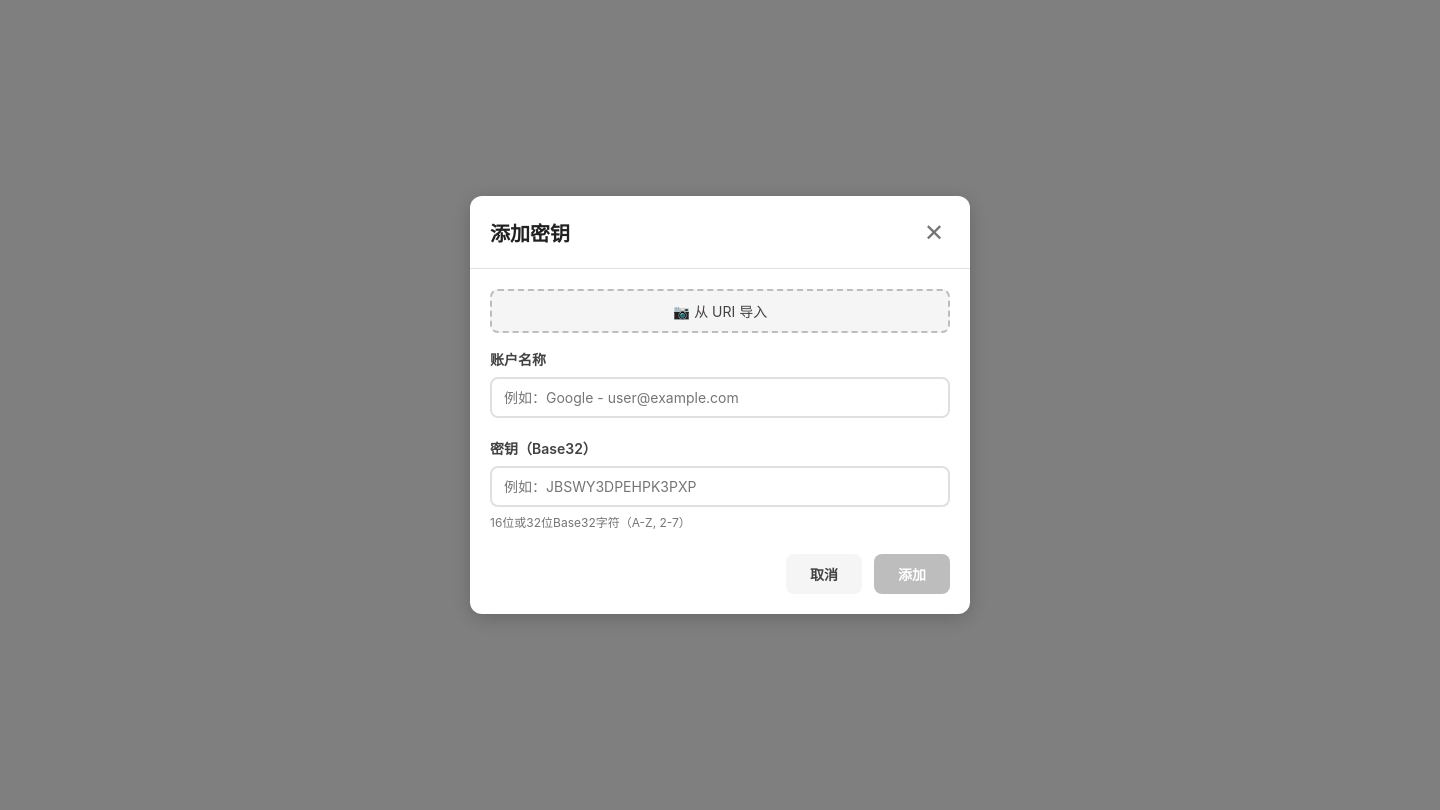
it: TokenForm › Form validation › should validate Base32 secret format
Type "Test" into the field with id "name" at (720, 398), box x1=490 y1=377 x2=950 y2=418
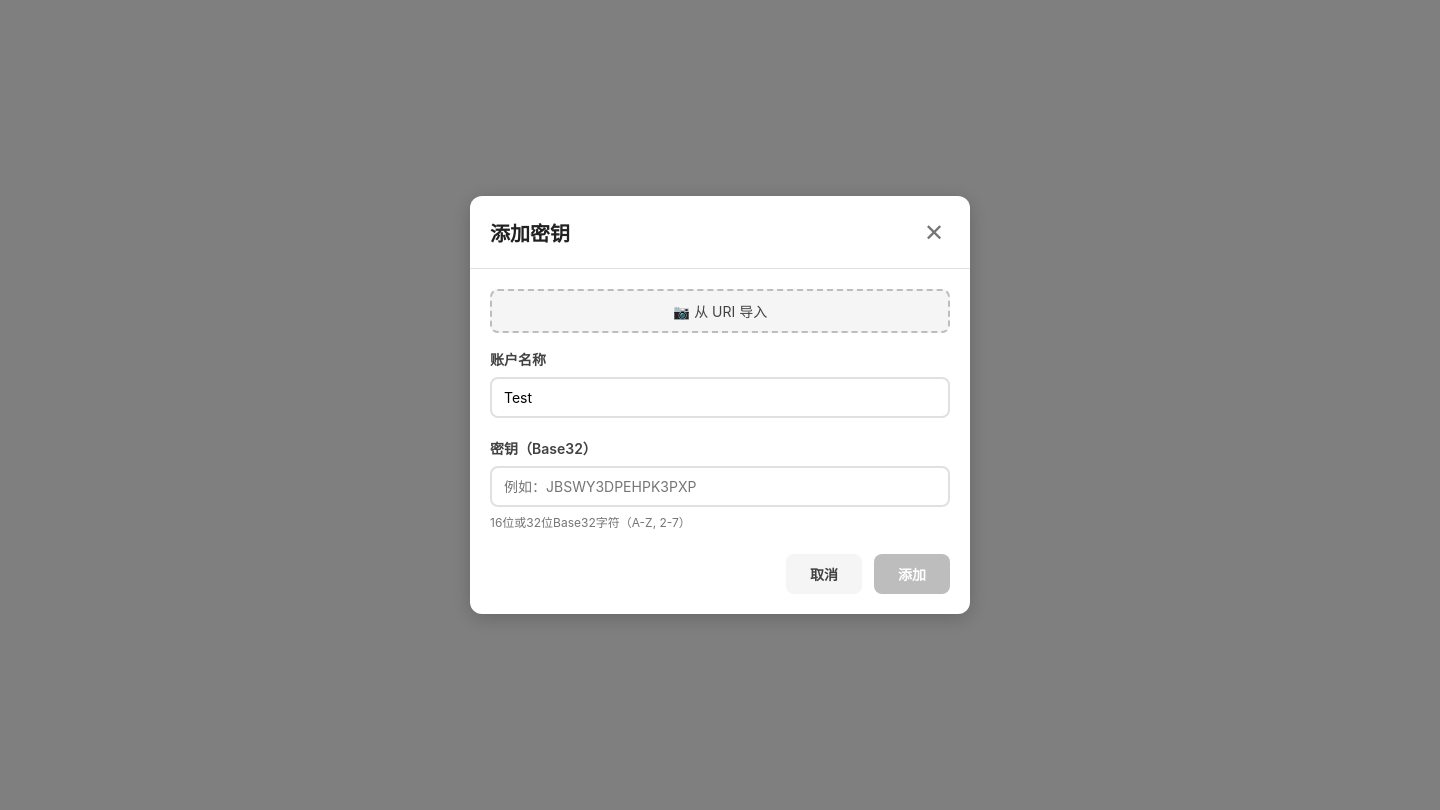
Type "INVALID!@#" into the field with id "secret" at (720, 486), box x1=490 y1=466 x2=950 y2=507
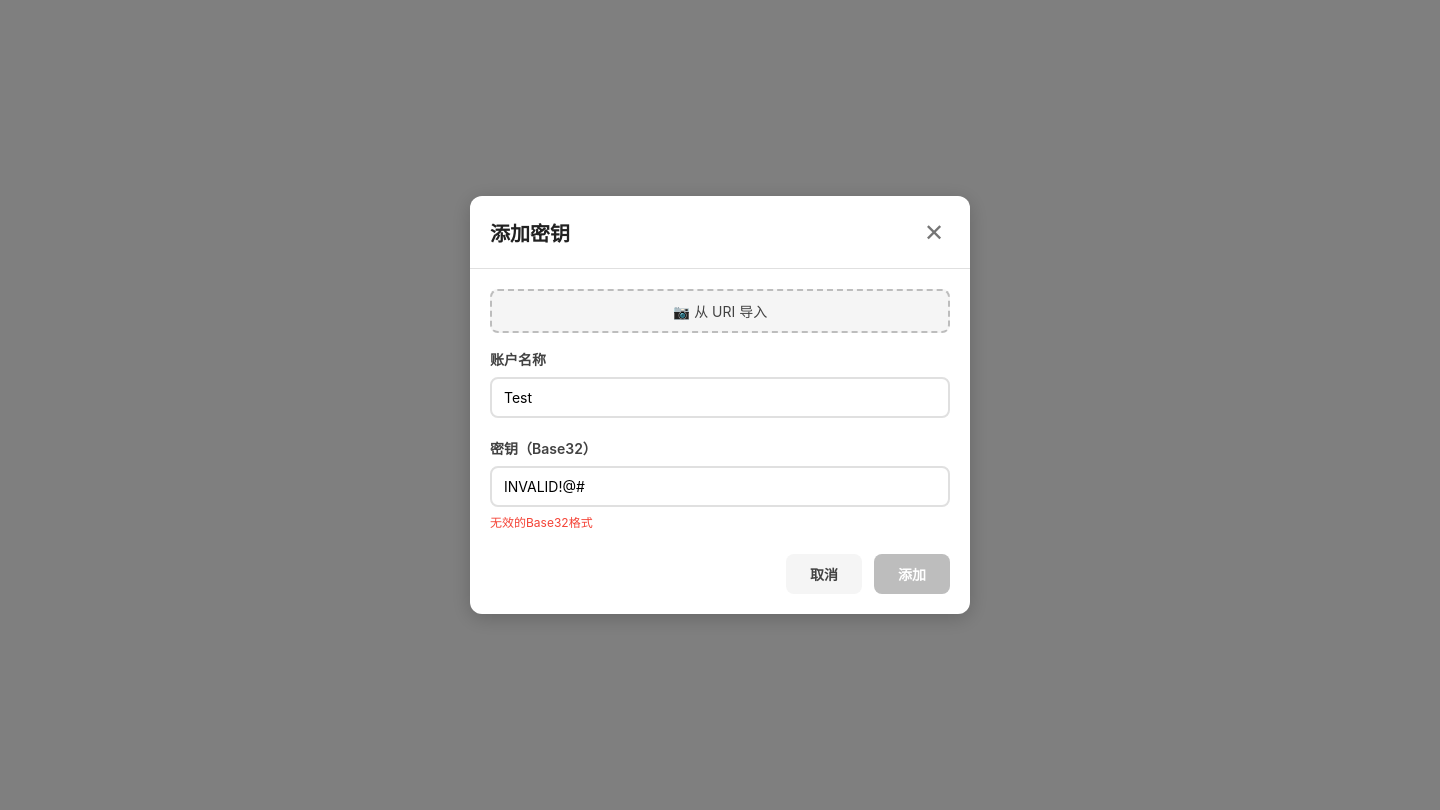
Check: the text "无效的Base32格式" is shown, box x1=490 y1=515 x2=593 y2=530
